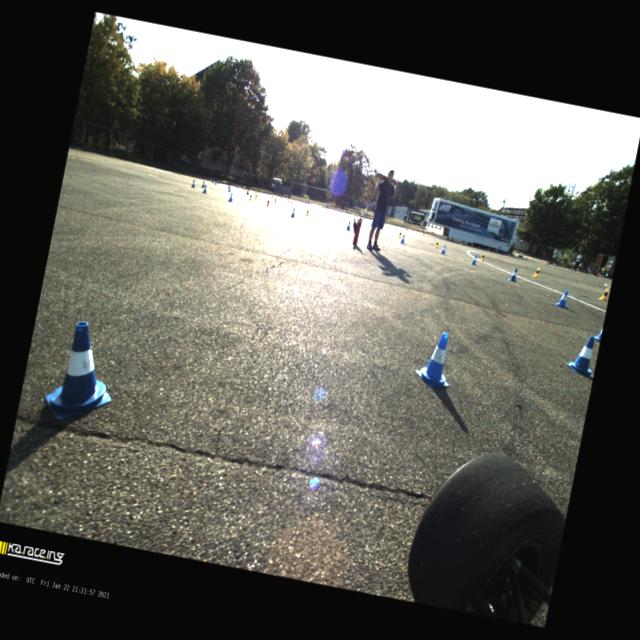blue_cone: (42, 318, 125, 428), (414, 328, 458, 391), (564, 333, 600, 378), (554, 288, 571, 310), (508, 267, 518, 282), (471, 254, 478, 266), (441, 244, 447, 254), (400, 234, 406, 244), (290, 208, 296, 218), (228, 192, 234, 202), (346, 221, 352, 231), (203, 184, 208, 193), (191, 180, 196, 188), (202, 181, 206, 188), (246, 190, 250, 196), (214, 180, 217, 186), (546, 262, 550, 266), (525, 257, 528, 261), (228, 188, 231, 192), (212, 180, 214, 183), (218, 181, 220, 184)
yellow_cone: (598, 287, 609, 301), (532, 267, 540, 278), (480, 252, 486, 262), (434, 240, 440, 248), (398, 230, 402, 238), (266, 200, 270, 207), (306, 210, 310, 216), (248, 194, 252, 200), (254, 194, 258, 200), (422, 231, 426, 236), (576, 268, 579, 274), (244, 186, 247, 192), (553, 264, 556, 269), (599, 274, 602, 279), (274, 198, 277, 203), (460, 241, 463, 245), (530, 259, 533, 263), (243, 186, 245, 192), (271, 194, 273, 200), (255, 190, 257, 195), (488, 248, 490, 252), (508, 254, 510, 258)
